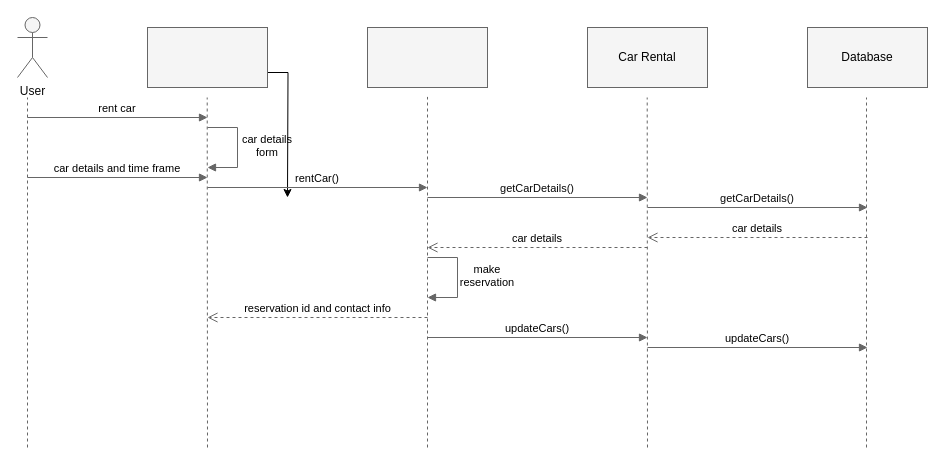
This 945x466 diagram has some shape labels left out. Each missing label, with the centre of its shape:
"GUI" belongs at [207,57].
"Resesrvation Manager" belongs at [427,57].
